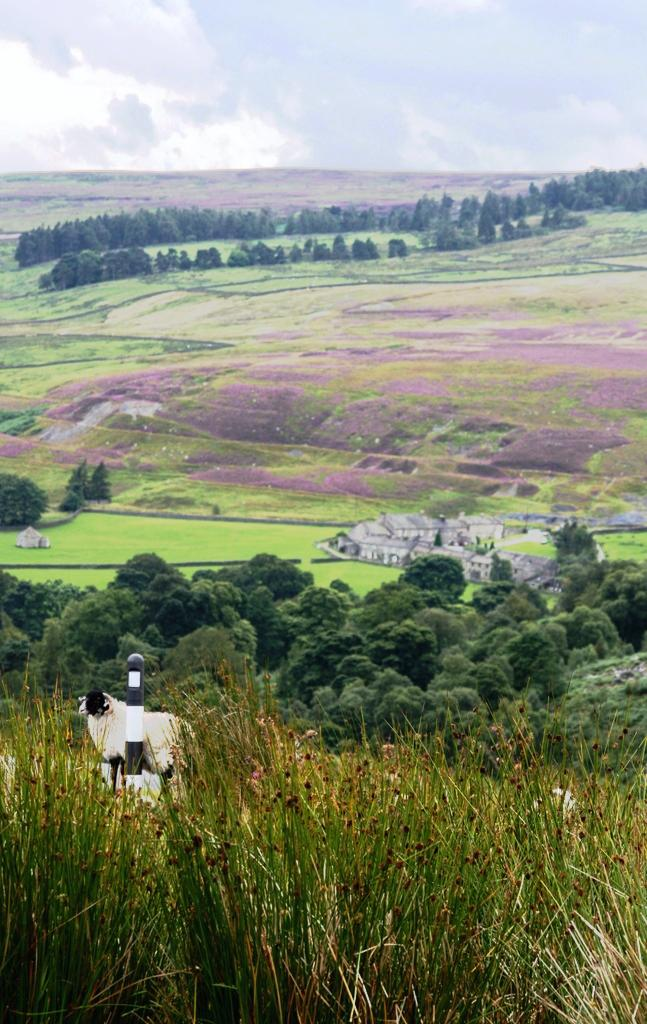Sheep: (76, 691, 206, 800)
